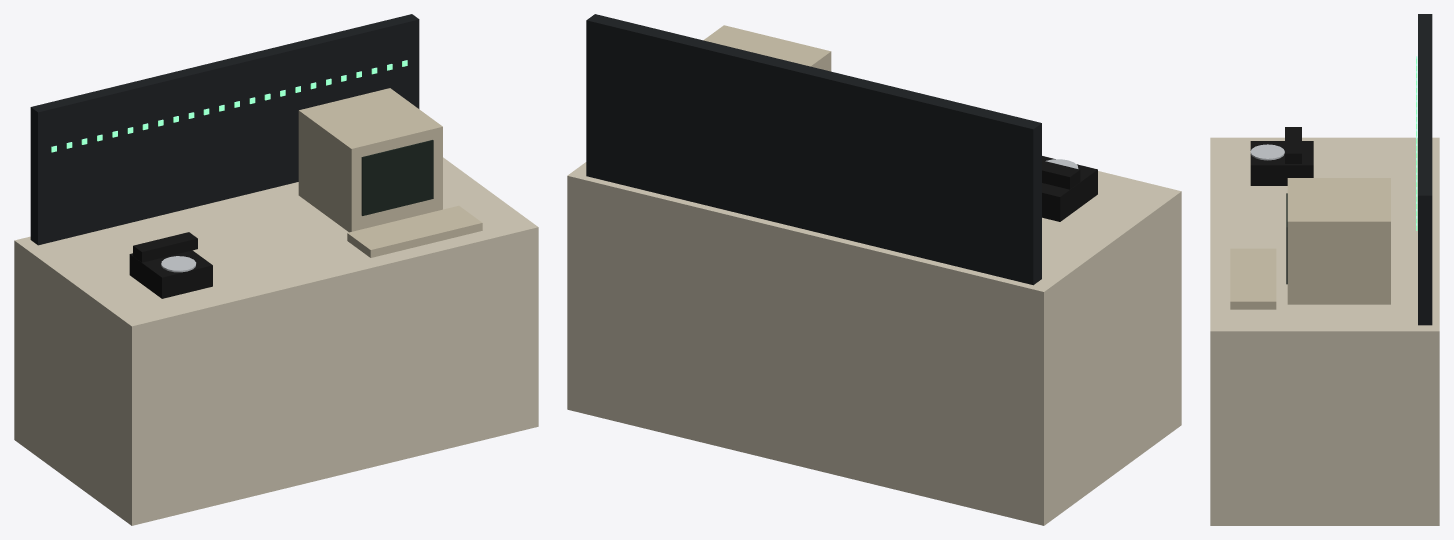
The model's file is console-1970s.glb.
3 views of the same model, side by side, from view 1: azimuth 30°, elevation 25°; view 2: azimuth 150°, elevation 25°; view 3: azimuth 270°, elevation 25° (orthographic). The views are drawn at different scales.
Visible parts, largest first — view 1: kit-console, kit-terminal, SCREEN, kit-phone-rotary; view 2: kit-console, kit-phone-rotary, kit-terminal; view 3: kit-console, kit-terminal, kit-phone-rotary.
Boxes of the visible parts, x1=… form: kit-console: x1=14, y1=14, x2=538, y2=525; kit-terminal: x1=298, y1=88, x2=482, y2=257; SCREEN: x1=361, y1=140, x2=433, y2=215; kit-phone-rotary: x1=129, y1=232, x2=212, y2=298; kit-console: x1=567, y1=14, x2=1181, y2=525; kit-phone-rotary: x1=1042, y1=156, x2=1097, y2=221; kit-terminal: x1=703, y1=25, x2=831, y2=71; kit-console: x1=1210, y1=14, x2=1439, y2=525; kit-terminal: x1=1230, y1=178, x2=1390, y2=309; kit-phone-rotary: x1=1250, y1=127, x2=1313, y2=185.
Bounding box in the file's own units: 1.6 × 1.25 × 0.8001.
